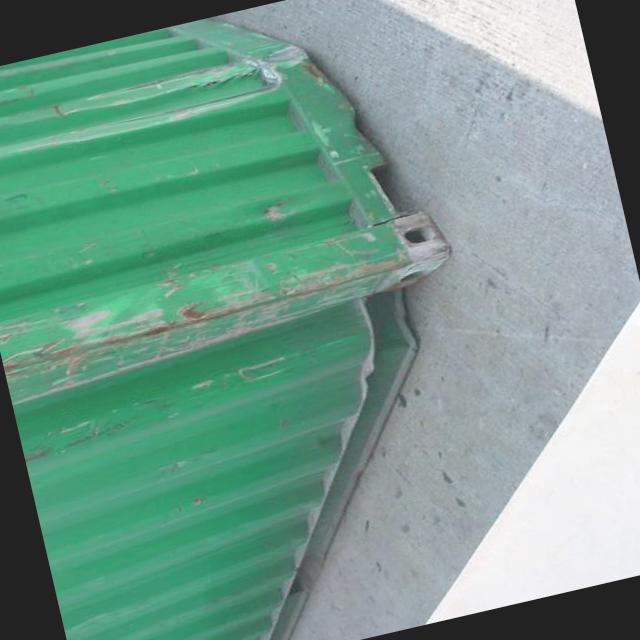dent: (24, 381, 233, 472)
hole: (80, 17, 393, 278)
rust: (1, 207, 446, 392)
